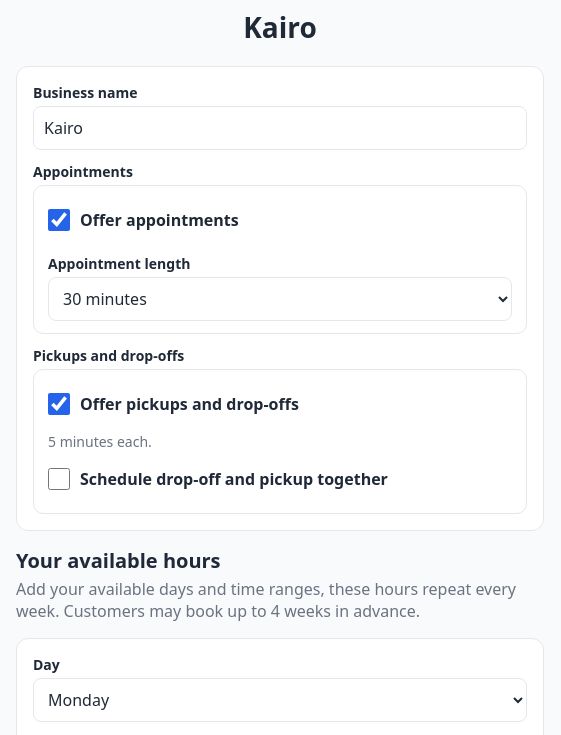
Test case: Appointment settings › shows the appointment length only when appointments are offered
Check: the dropdown labelled "Appointment length" shows "30 minutes", box [48,277,512,321]
Click the checkbox labelled "Offer appointments" at [59, 220], box [48,209,70,231]
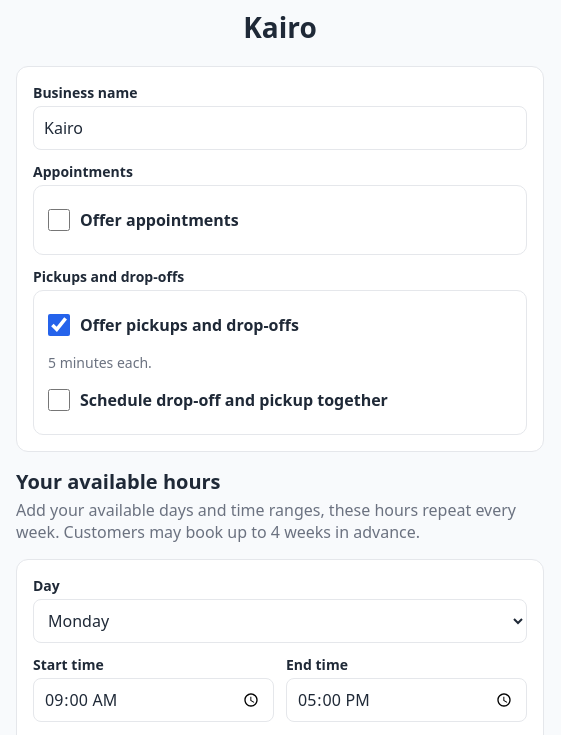
Check: the label labelled "Appointment length" is gone
